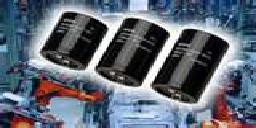Electrolytic-Capacitor: (153, 25, 234, 108), (95, 16, 170, 90), (37, 4, 108, 77)
